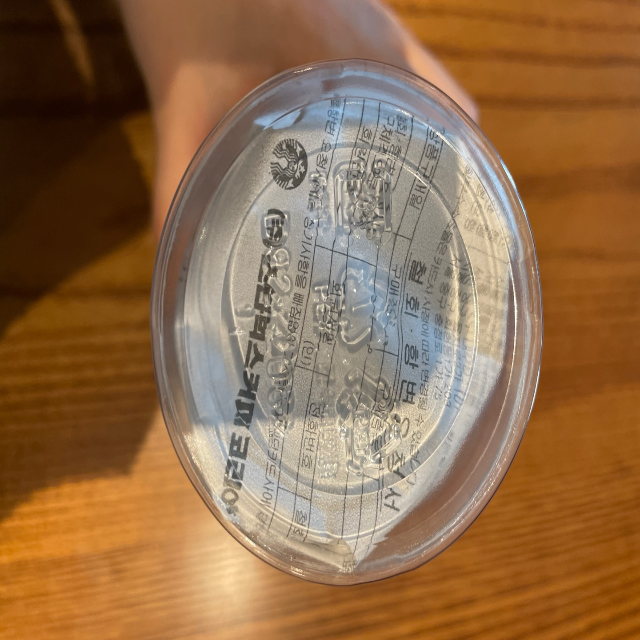pet: (307, 360, 409, 479), (302, 152, 397, 243), (305, 268, 407, 352)
